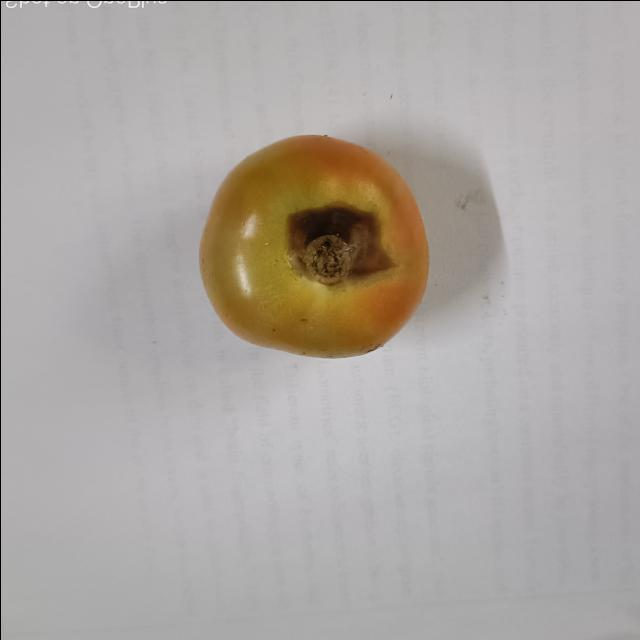Anthrocnose: (282, 208, 388, 290)
